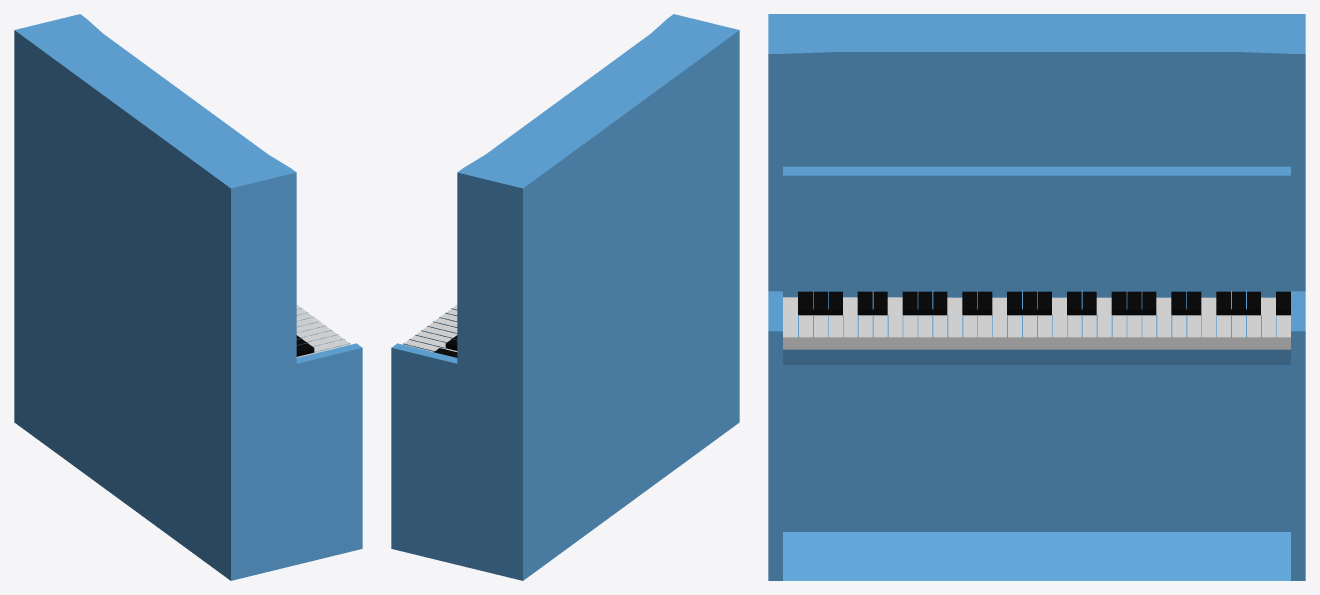
Rendered from piano.fbx.
3 renders of one model, left to right at view 1: azimuth 30°, elevation 25°; view 2: azimuth 150°, elevation 25°; view 3: azimuth 270°, elevation 25°, orthographic. The views are drawn at different scales.
Visible parts, largest first — view 1: Cube; view 2: Cube; view 3: Cube.
Boxes of the visible parts, box(x1,y1,x2,y2) form: Cube: box(14, 14, 362, 580); Cube: box(391, 14, 739, 580); Cube: box(768, 14, 1305, 580).
Bounding box in the file's own units: 313 × 891 × 891.
